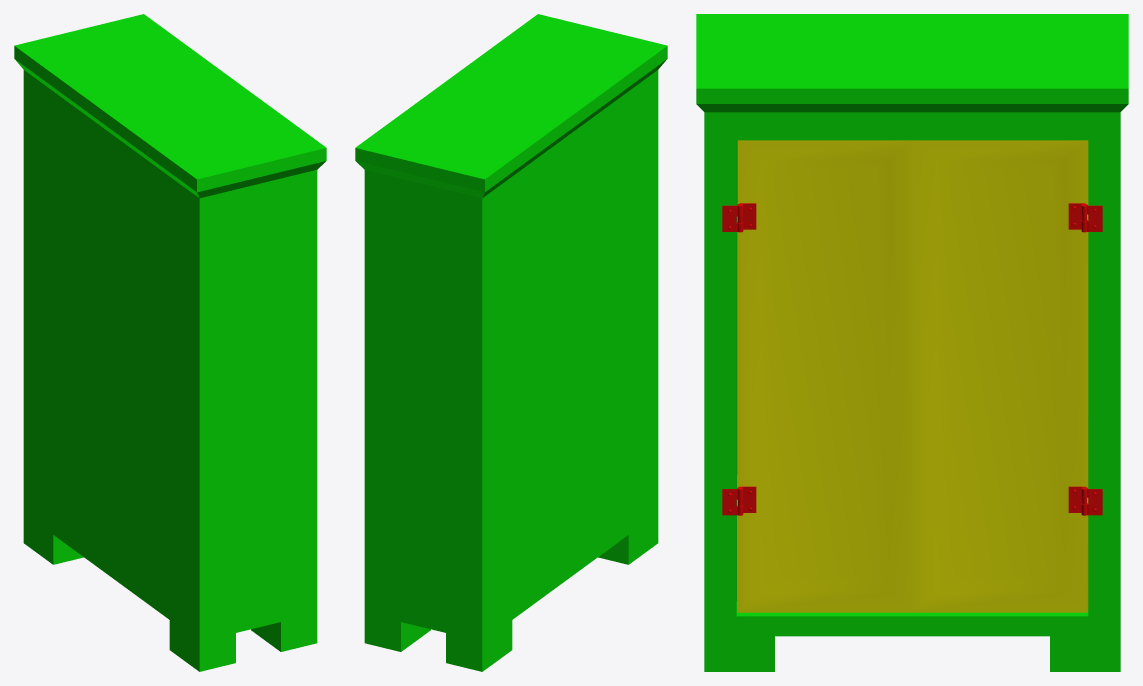
File: Closet.fbx
3 renders of one model, left to right at view 1: azimuth 30°, elevation 25°; view 2: azimuth 150°, elevation 25°; view 3: azimuth 270°, elevation 25°, orthographic. The views are drawn at different scales.
Parts seen in each view (by area): view 1: Closet; view 2: Closet; view 3: Closet, ClosetDoor, ClosetDoor1, Hinge_Hinge4, Hinge_Hinge3, Hinge_Hinge, Hinge_Hinge2.
Boxes of the visible parts, bbox=[...] form: Closet: bbox=[14, 14, 326, 671]; Closet: bbox=[355, 14, 667, 671]; Closet: bbox=[696, 14, 1128, 671]; ClosetDoor: bbox=[912, 140, 1088, 612]; ClosetDoor1: bbox=[737, 140, 913, 612]; Hinge_Hinge4: bbox=[722, 486, 756, 515]; Hinge_Hinge3: bbox=[1068, 486, 1102, 515]; Hinge_Hinge: bbox=[1068, 203, 1102, 232]; Hinge_Hinge2: bbox=[722, 203, 756, 232].
Bounding box in the file's own units: 110 × 402 × 269.
